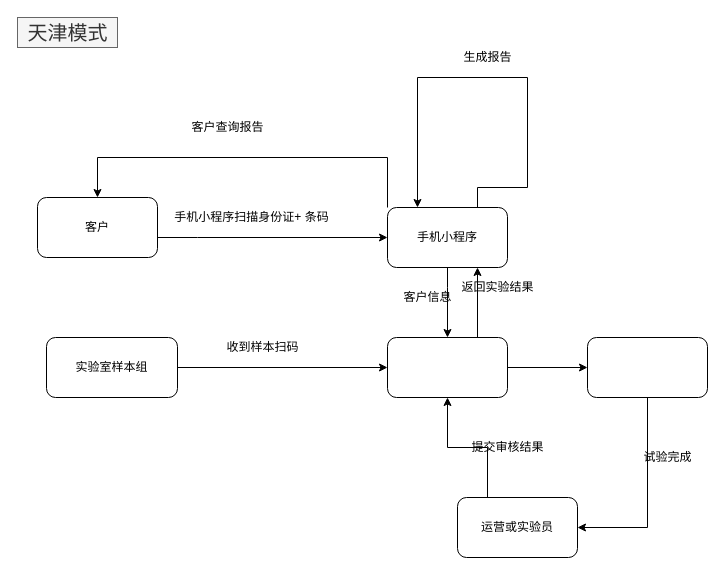
The diagram is 725 pixels wide and 575 high, and some of its shapes have lost their labels. Here are the shapes that lost their labels. From the top down, the centre of each, then its label:
At (447,367): "腾程lis".
At (647,367): "实验室开始试验".
